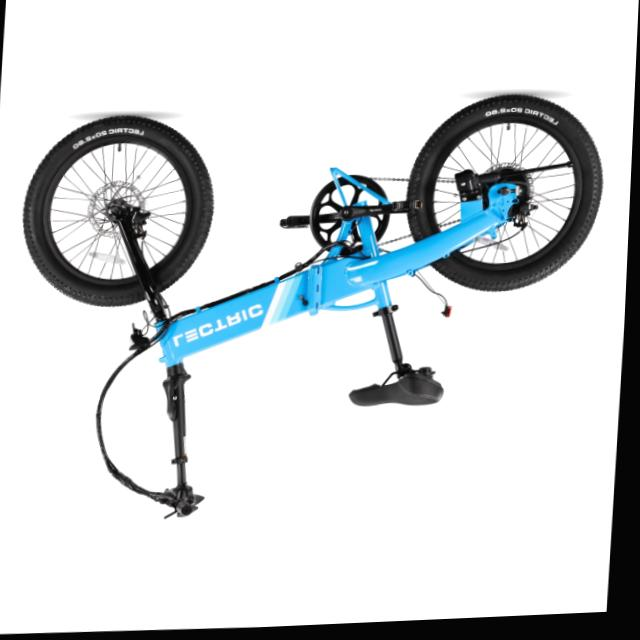folding-bike: (4, 85, 610, 535)
